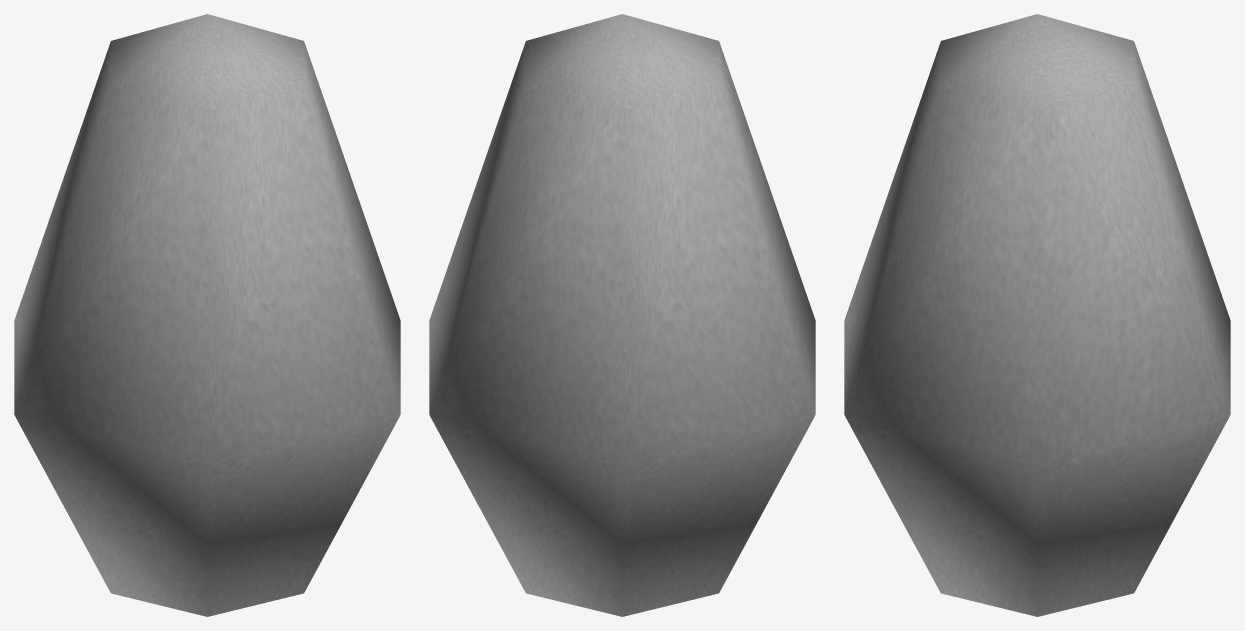
The model's file is egg.glb.
3 renders of one model, left to right at view 1: azimuth 30°, elevation 25°; view 2: azimuth 150°, elevation 25°; view 3: azimuth 270°, elevation 25°, orthographic.
Visible parts, largest first — view 1: Egg; view 2: Egg; view 3: Egg.
Part boxes in pixels (box(x1,y1,x2,y2)): Egg: box(14, 14, 400, 616); Egg: box(429, 14, 815, 616); Egg: box(844, 14, 1230, 616).
Bounding box in the file's own units: 0.4 × 0.55 × 0.3464.
Materials: 1 (1 with a texture image).
